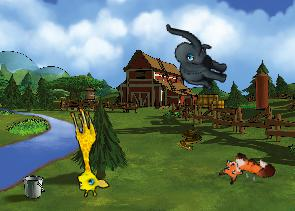elephant: (155, 23, 235, 92)
fox: (216, 146, 277, 197)
giraffe: (58, 105, 111, 199)
